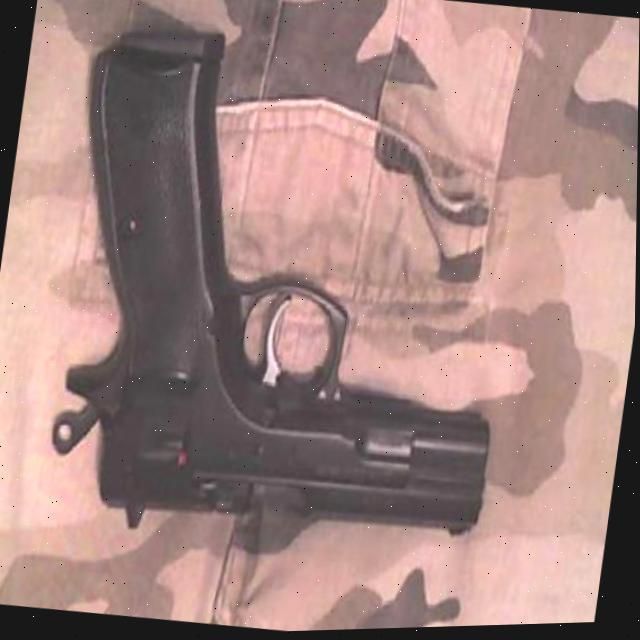gun: (26, 19, 546, 574)
